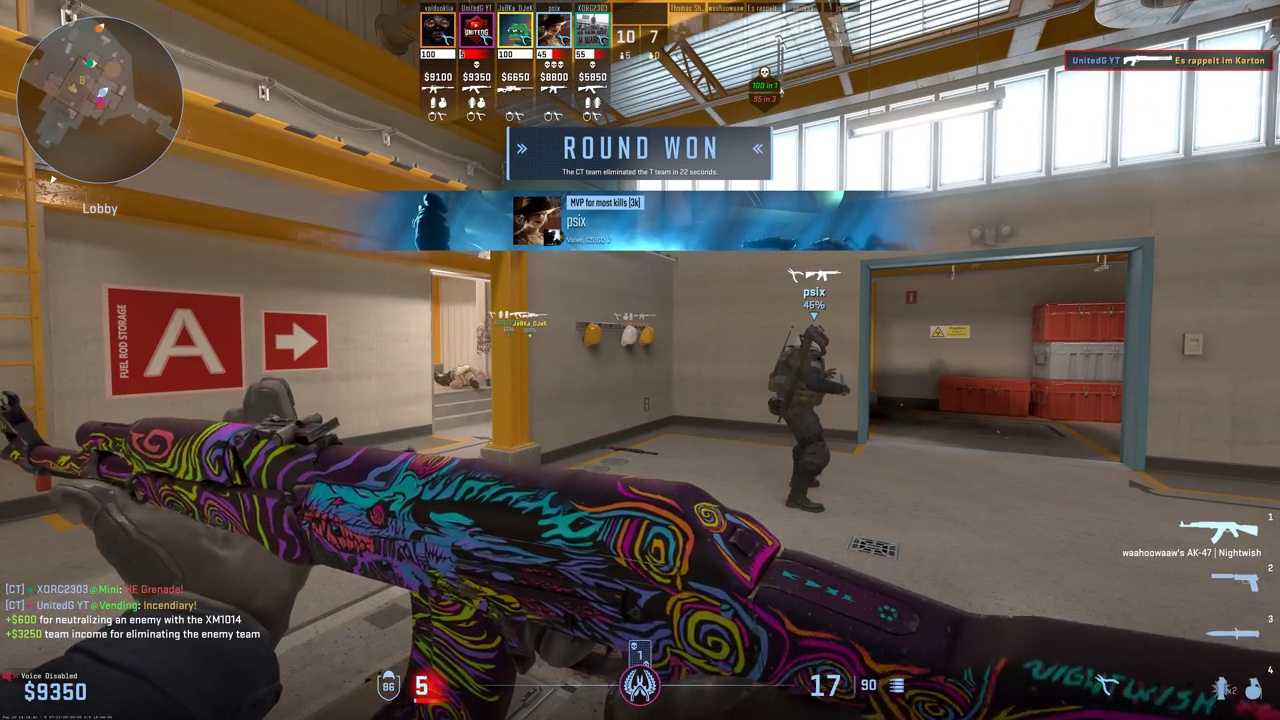CT: (773, 324, 839, 510)
